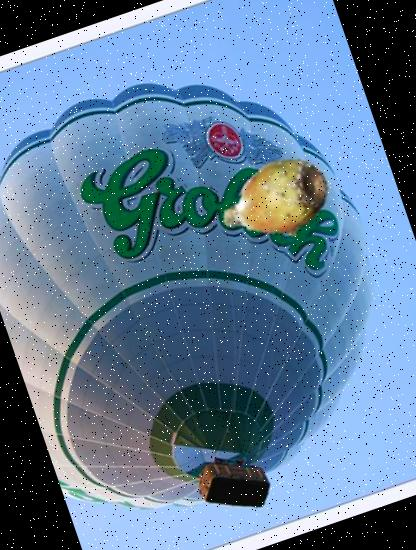Cactus: (203, 130, 348, 276)
